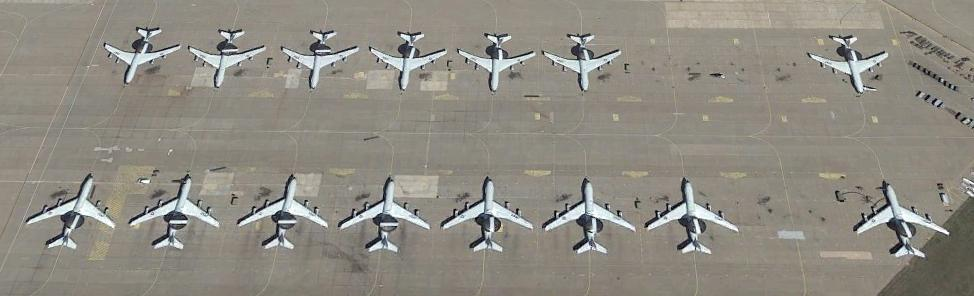E-3: (848, 179, 954, 263), (541, 172, 638, 257), (644, 173, 742, 257), (241, 171, 333, 254), (339, 174, 433, 255), (444, 173, 536, 254), (28, 172, 120, 252), (130, 175, 223, 253), (802, 32, 896, 94), (99, 21, 187, 85), (185, 23, 270, 89), (454, 31, 542, 93), (367, 29, 453, 91), (545, 32, 623, 96), (284, 28, 361, 88)
